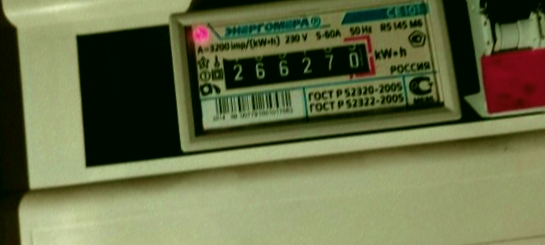0: (346, 49, 359, 70)
2: (230, 60, 246, 83), (299, 54, 314, 75)
6: (276, 57, 291, 77), (253, 60, 267, 81)
7: (322, 51, 336, 72)
screen: (208, 27, 386, 103)
